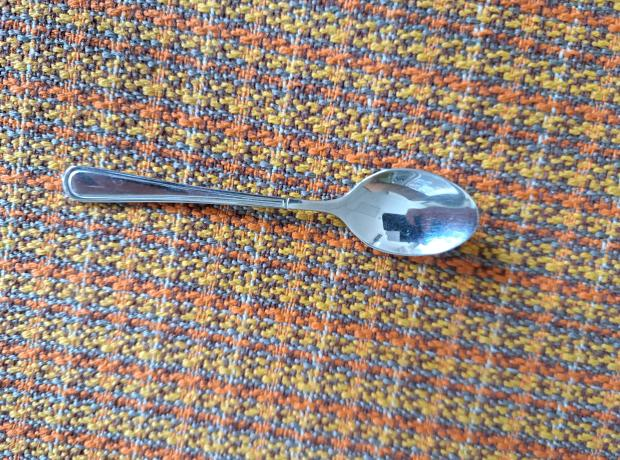metal: (61, 156, 483, 268)
